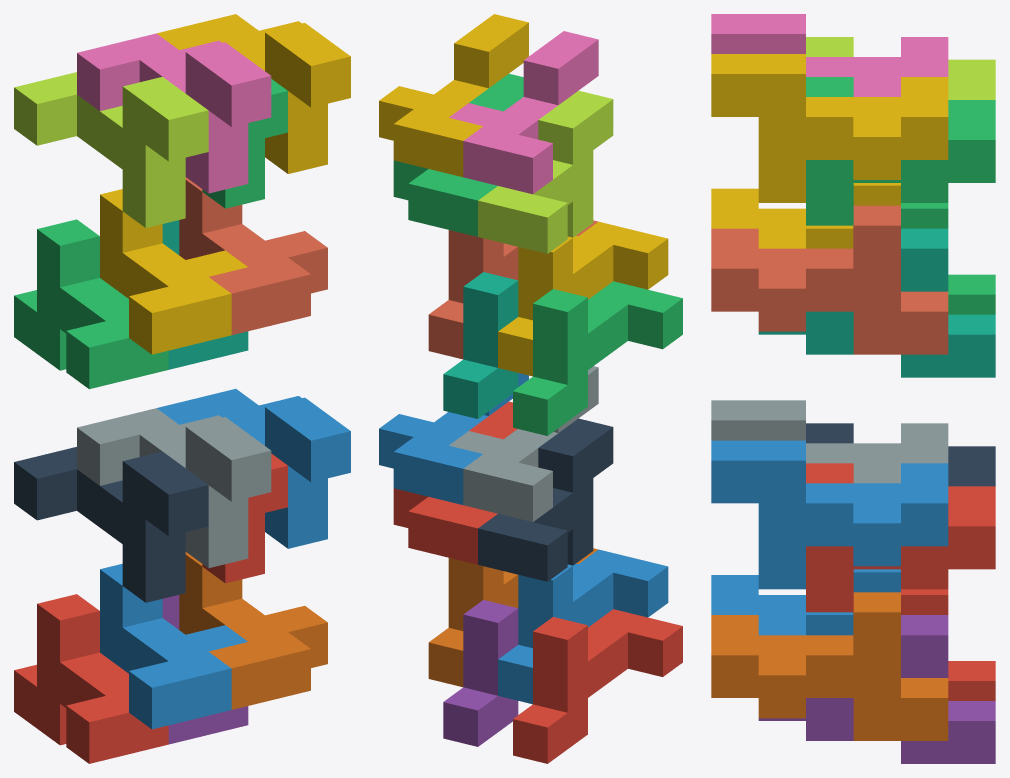
Rendered from tiling.obj.
3 views of the same model, side by side, from view 1: azimuth 30°, elevation 25°; view 2: azimuth 150°, elevation 25°; view 3: azimuth 270°, elevation 25° (orthographic). The views are drawn at different scales.
Visible parts, largest first — view 1: copy_2_domain_1, copy_2_domain_3, copy_1_domain_3, copy_1_domain_1, copy_2_domain_2, copy_2_domain_4, copy_1_domain_4, copy_1_domain_2, copy_1_domain_8, copy_1_domain_6, copy_2_domain_6, copy_2_domain_8 (+4 smaller); view 2: copy_1_domain_1, copy_1_domain_3, copy_2_domain_1, copy_2_domain_3, copy_2_domain_4, copy_2_domain_8, copy_1_domain_2, copy_1_domain_4, copy_2_domain_2, copy_1_domain_5, copy_1_domain_7, copy_2_domain_6 (+4 smaller); view 3: copy_1_domain_8, copy_2_domain_6, copy_1_domain_6, copy_2_domain_8, copy_2_domain_5, copy_2_domain_7, copy_1_domain_7, copy_1_domain_5, copy_2_domain_2, copy_2_domain_4, copy_1_domain_4, copy_1_domain_2 (+4 smaller).
Part boxes in pixels (x1,y1,x2,y2): copy_2_domain_1: [14, 447, 208, 602]; copy_2_domain_3: [14, 72, 208, 227]; copy_1_domain_3: [14, 219, 168, 389]; copy_1_domain_1: [14, 594, 168, 763]; copy_2_domain_2: [77, 408, 271, 568]; copy_2_domain_4: [77, 33, 271, 193]; copy_1_domain_4: [100, 189, 247, 354]; copy_1_domain_2: [100, 563, 247, 729]; copy_1_domain_8: [179, 177, 327, 334]; copy_1_domain_6: [179, 552, 327, 709]; copy_2_domain_6: [157, 388, 350, 548]; copy_2_domain_8: [157, 14, 350, 173]; copy_1_domain_1: [513, 609, 682, 763]; copy_1_domain_3: [513, 281, 682, 435]; copy_2_domain_1: [478, 418, 613, 581]; copy_2_domain_3: [478, 90, 613, 253]; copy_2_domain_4: [449, 31, 598, 194]; copy_2_domain_8: [379, 14, 528, 177]; copy_1_domain_2: [498, 549, 668, 704]; copy_1_domain_4: [498, 221, 668, 376]; copy_2_domain_2: [449, 366, 598, 521]; copy_1_domain_5: [443, 600, 518, 746]; copy_1_domain_7: [443, 272, 518, 418]; copy_2_domain_6: [379, 373, 528, 504]; copy_1_domain_8: [711, 205, 948, 354]; copy_2_domain_6: [711, 440, 948, 589]; copy_1_domain_6: [711, 592, 948, 740]; copy_2_domain_8: [711, 54, 948, 202]; copy_2_domain_5: [806, 463, 995, 612]; copy_2_domain_7: [806, 77, 995, 225]; copy_1_domain_7: [758, 228, 995, 377]; copy_1_domain_5: [758, 615, 995, 763]; copy_2_domain_2: [711, 400, 948, 483]; copy_2_domain_4: [711, 14, 948, 96]; copy_1_domain_4: [711, 183, 900, 248]; copy_1_domain_2: [711, 569, 900, 635].
Bounding box in the file's own units: 7 × 17 × 6.
